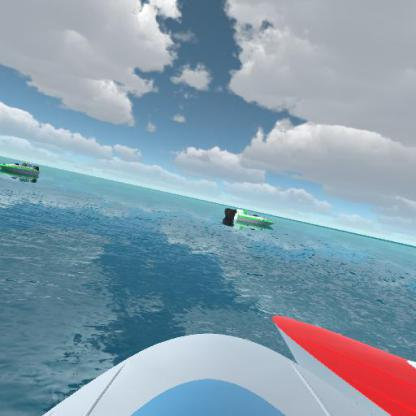usv0: (216, 202, 277, 238), (0, 154, 46, 185)
usv3: (267, 302, 415, 415)
